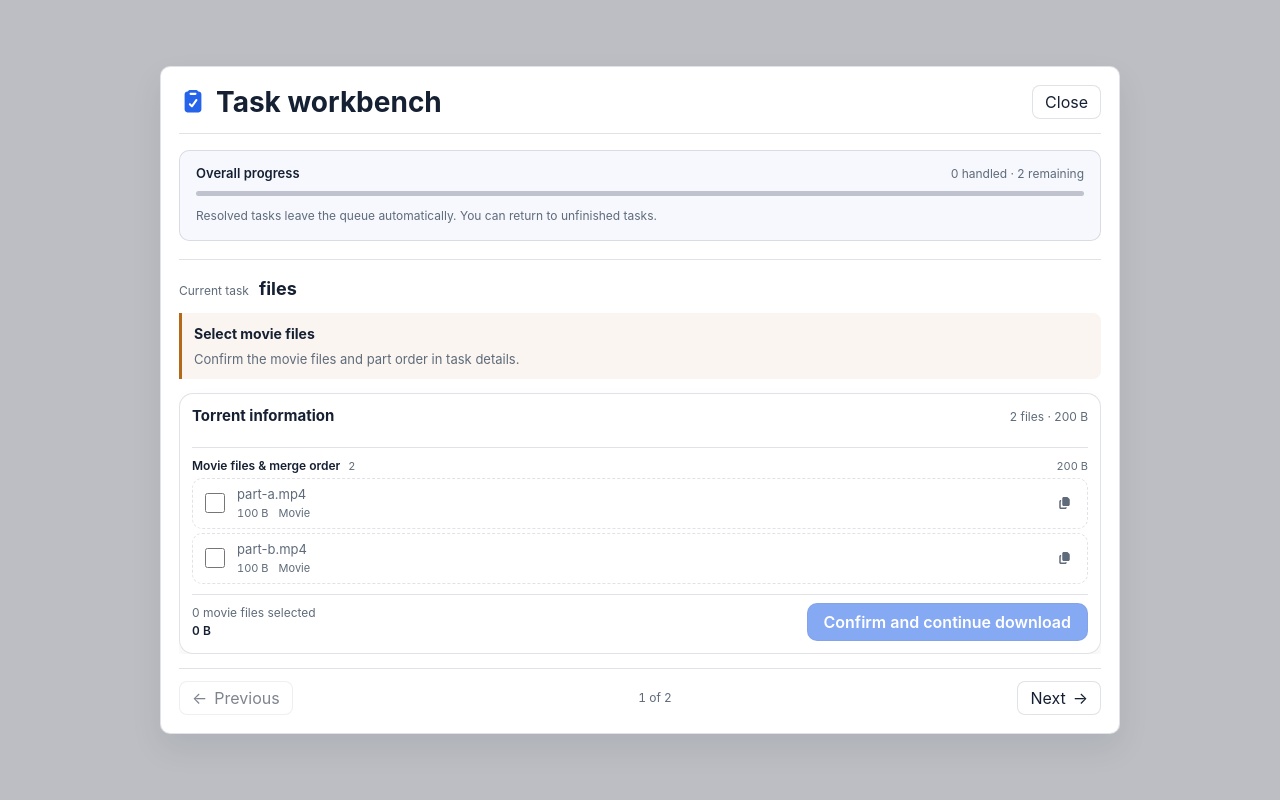
Test: processing queue › keeps file drafts when switching and advances after confirmation
Click the checkbox named "part-b.mp4".
click(215, 558)  # box [205,548,225,568]
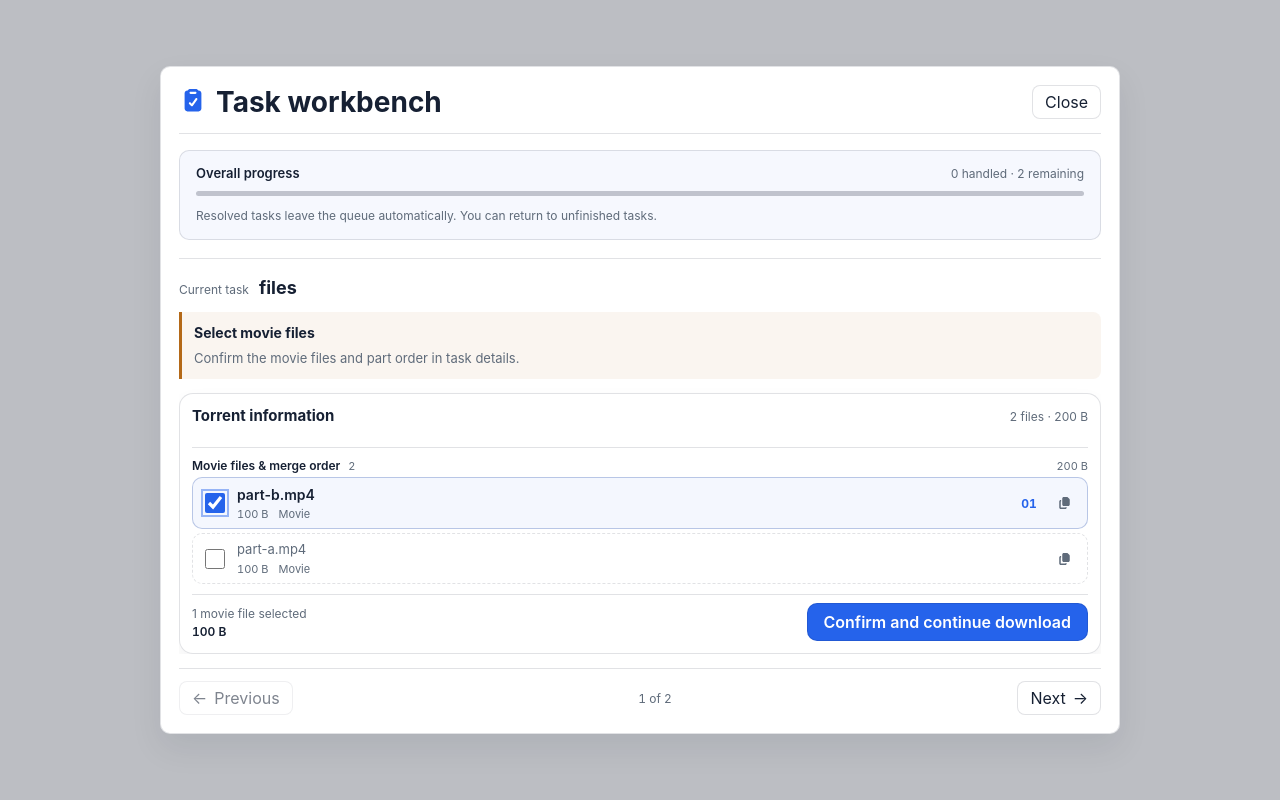
Click the button "Next →".
click(1059, 698)  # box [1017,681,1101,715]
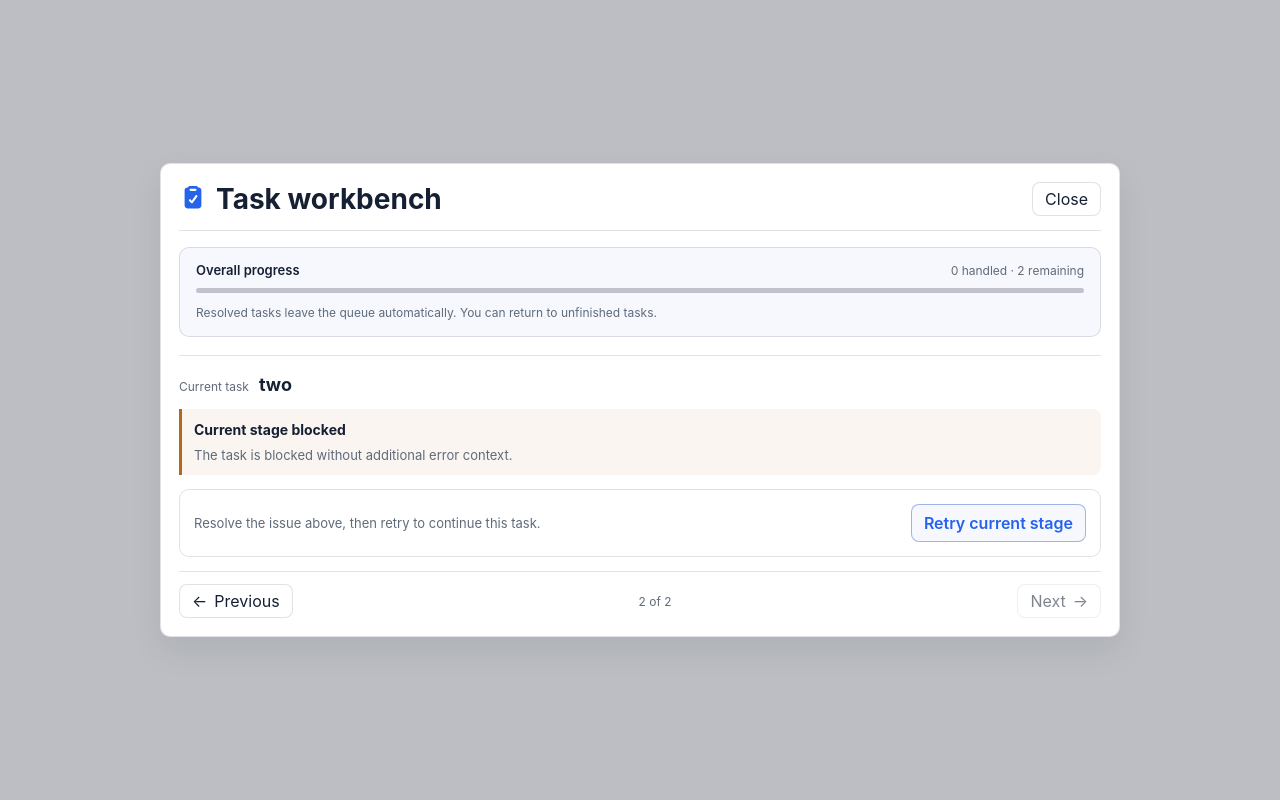
Click the button "← Previous".
click(236, 602)  # box [179,584,293,618]
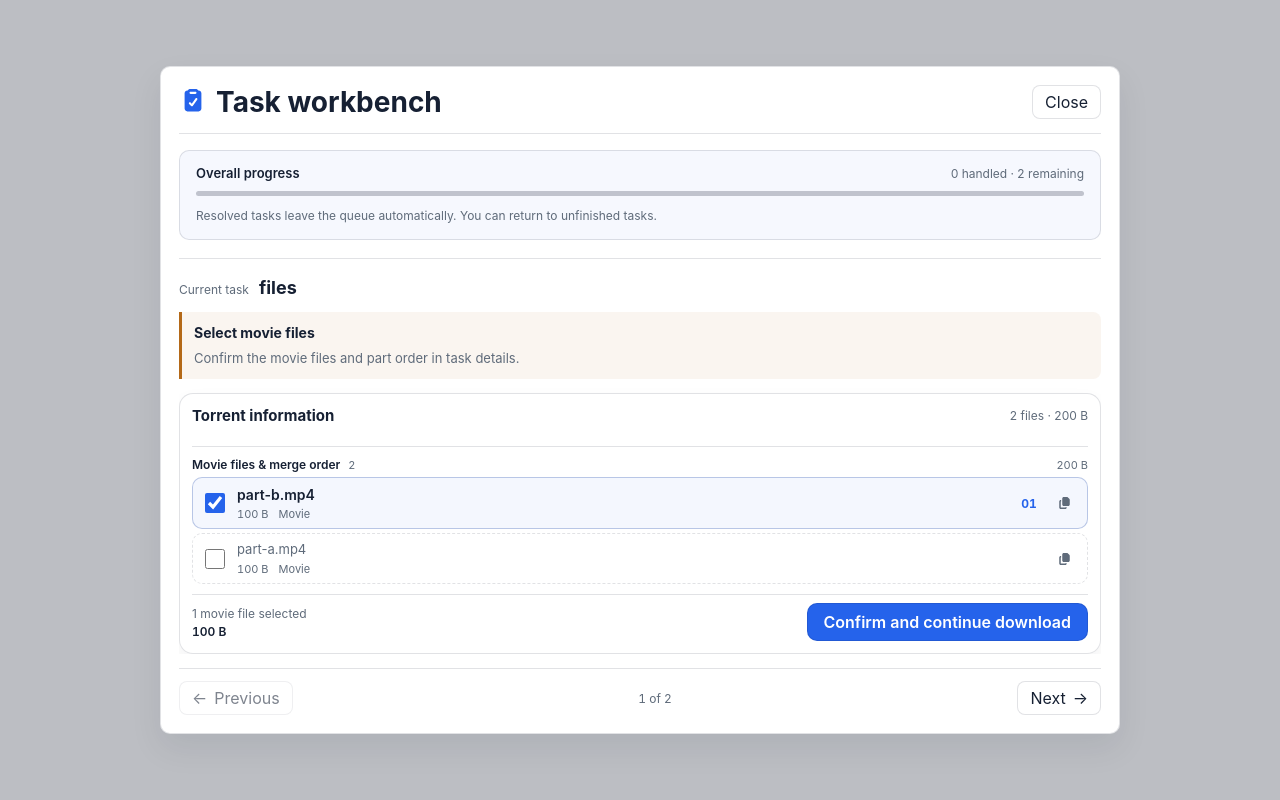
Expected: the checkbox named "part-b.mp4" is checked, [205,493,225,513]
Click the button "Confirm and continue download".
click(947, 622)  # box [806,603,1088,641]
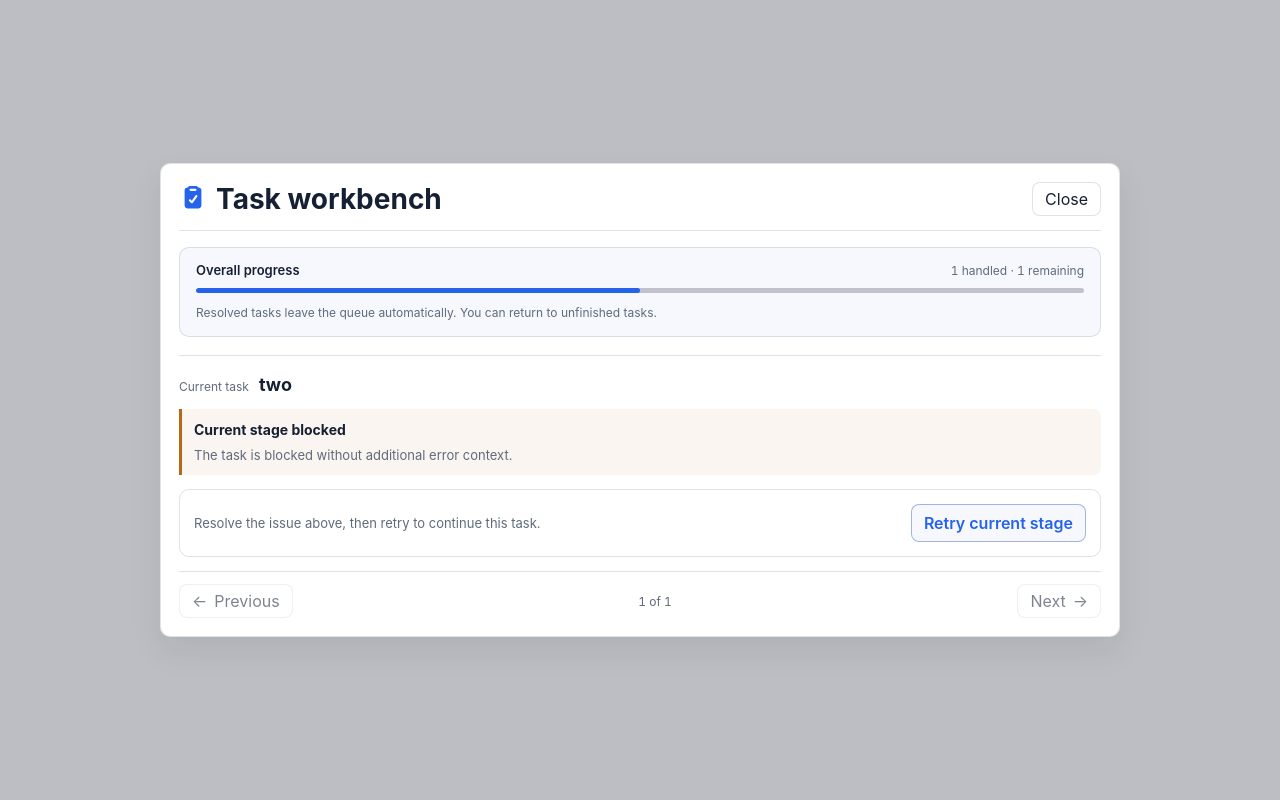
Expected: the heading "two" is shown, [259,374,292,395]
